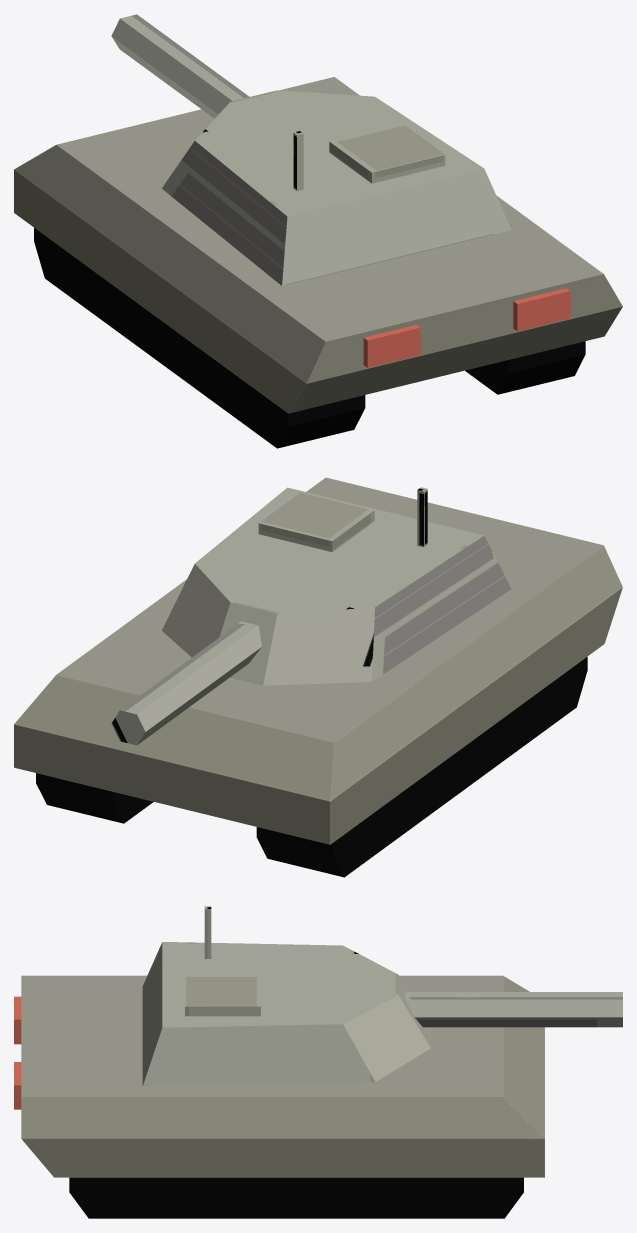
File: tank.gltf
3 views of the same model, one above another, from view 1: azimuth 30°, elevation 25°; view 2: azimuth 150°, elevation 25°; view 3: azimuth 270°, elevation 25° (orthographic). The views are drawn at different scales.
Parts seen in each view (by area): view 1: Body, Head, Track2, Track1, TailLight2, TailLight1; view 2: Body, Head, Track2, Track1; view 3: Body, Head, Track1.
Boxes of the visible parts, x1=… form: Body: x1=14, y1=77, x2=622, y2=413; Head: x1=111, y1=14, x2=511, y2=285; Track2: x1=34, y1=228, x2=365, y2=448; Track1: x1=465, y1=341, x2=585, y2=394; TailLight2: x1=513, y1=288, x2=570, y2=331; TailLight1: x1=363, y1=325, x2=420, y2=367; Body: x1=14, y1=477, x2=622, y2=844; Head: x1=111, y1=487, x2=511, y2=745; Track2: x1=256, y1=657, x2=587, y2=877; Track1: x1=36, y1=773, x2=153, y2=823; Body: x1=21, y1=975, x2=544, y2=1177; Head: x1=142, y1=906, x2=622, y2=1086; Track1: x1=69, y1=1177, x2=523, y2=1218.
Bounding box in the file's own units: 13.62 × 10.1 × 25.39.
4 materials, 2 textured.
